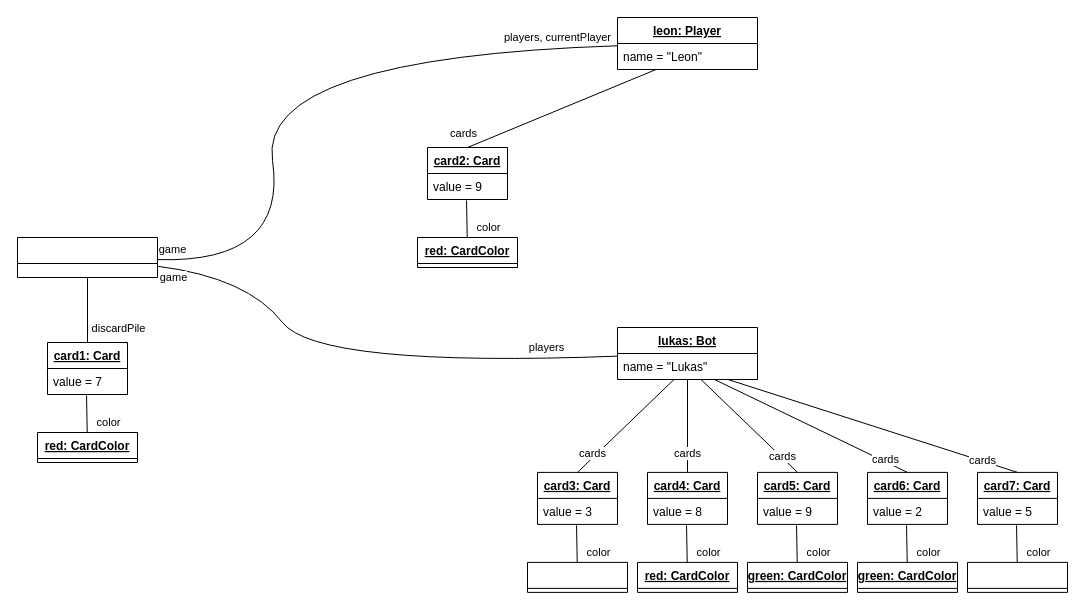
Some shapes in this 1087 by 610 pixel diagram are drawn without their labels. The centre of each missing label's shape, as x and y in pixels:
"blue: CardColor" belongs at [577,576].
"game: Game" belongs at [87,257].
"yellow: CardColor" belongs at [1017,576].
